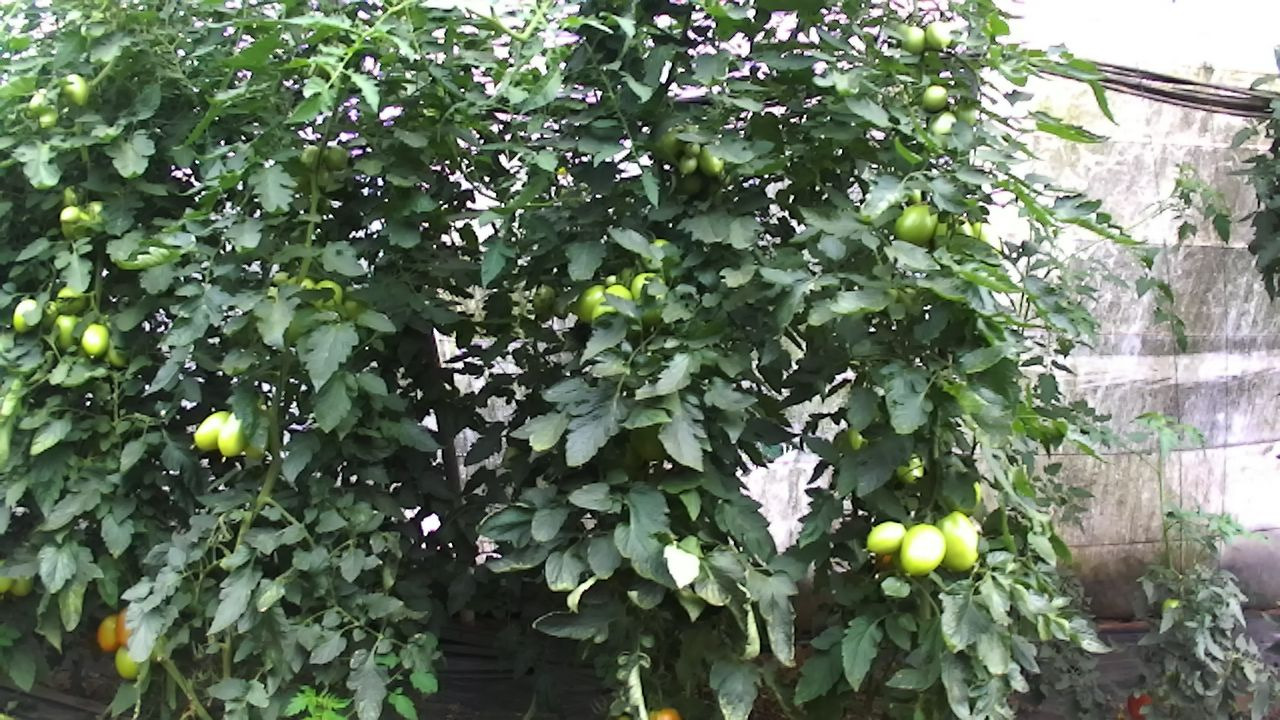tomato: (934, 505, 980, 575), (896, 520, 947, 580), (892, 203, 940, 249), (190, 408, 233, 454), (861, 517, 907, 556), (6, 295, 44, 338), (110, 639, 144, 685), (216, 410, 246, 458), (78, 319, 111, 362), (94, 609, 123, 656), (694, 143, 726, 178), (917, 82, 949, 113), (900, 26, 926, 57), (673, 153, 697, 180), (57, 203, 81, 225), (682, 140, 704, 158)
